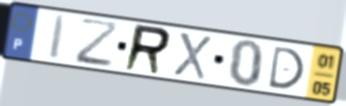0: (225, 37, 267, 89)
D: (266, 44, 307, 91)
I: (47, 13, 70, 63)
R: (121, 22, 174, 77)
X: (171, 30, 213, 82)
Z: (75, 17, 121, 70)
